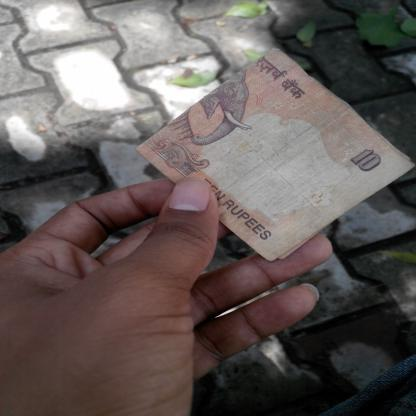Old10Back: (136, 47, 415, 263)
